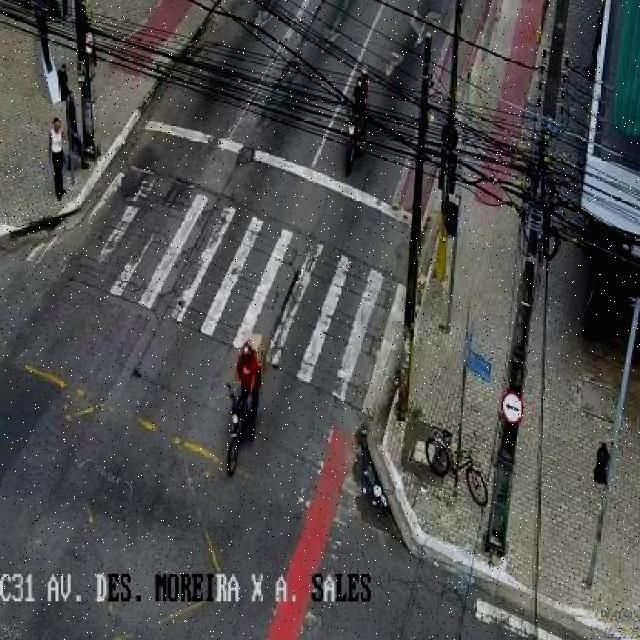Cycle: (225, 324, 276, 474), (424, 430, 507, 514), (338, 70, 380, 160)
